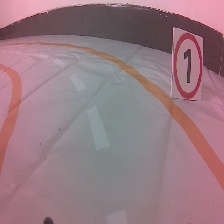limit: (165, 24, 207, 107)
